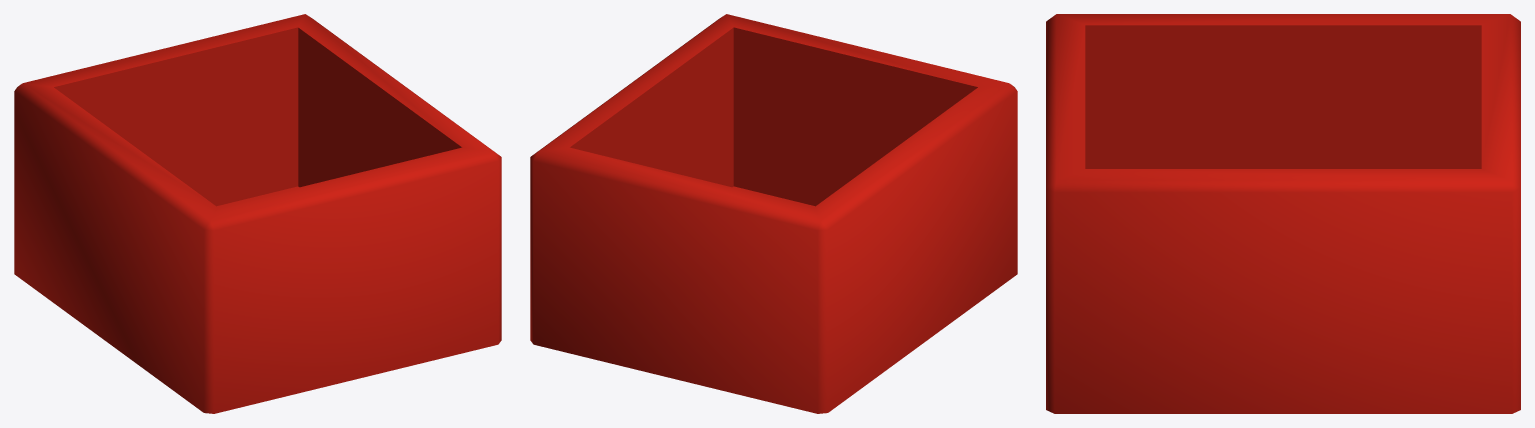
Rendered from thung rac.FBX.
3 views of the same model, side by side, from view 1: azimuth 30°, elevation 25°; view 2: azimuth 150°, elevation 25°; view 3: azimuth 270°, elevation 25° (orthographic). The views are drawn at different scales.
Visible parts, largest first — view 1: Object235; view 2: Object235; view 3: Object235.
Part boxes in pixels (bbox=[...]): Object235: bbox=[14, 14, 501, 413]; Object235: bbox=[530, 14, 1017, 413]; Object235: bbox=[1046, 14, 1520, 413].
Bounding box in the file's own units: 2.08 × 1.27 × 2.38.
